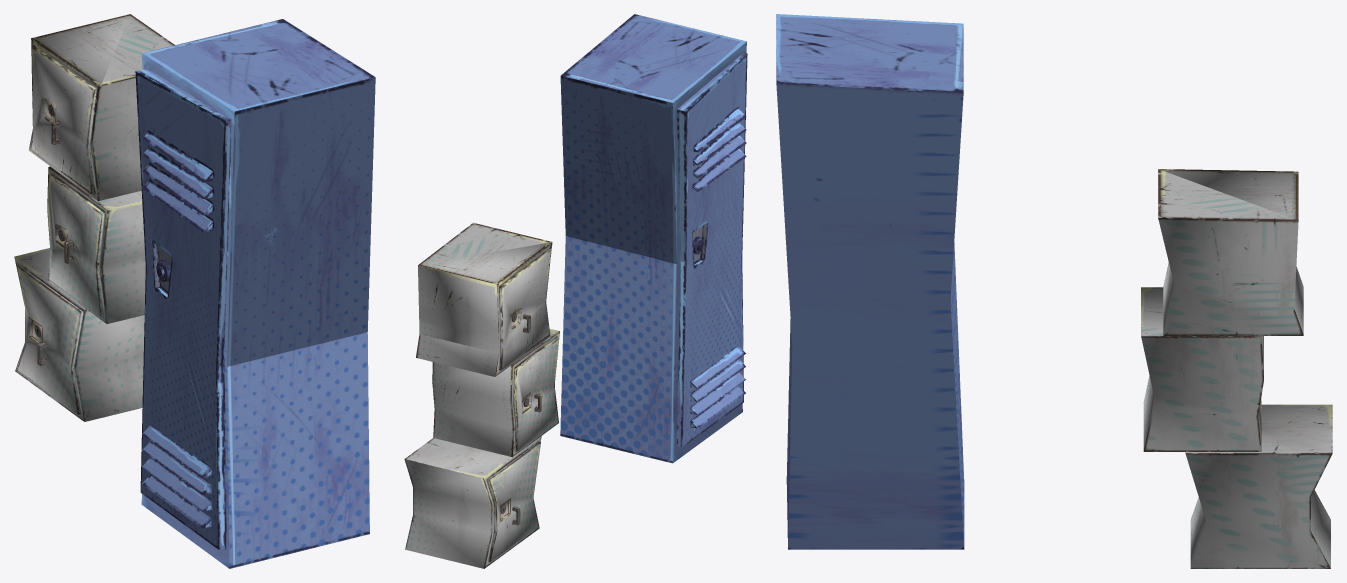
The model's file is LockersA_NoRust.glb.
3 views of the same model, side by side, from view 1: azimuth 30°, elevation 25°; view 2: azimuth 150°, elevation 25°; view 3: azimuth 270°, elevation 25° (orthographic). The views are drawn at different scales.
Parts seen in each view (by area): view 1: Cube.001, small locker top door; view 2: Cube.001, small locker top door; view 3: Cube.001, small locker top door.
Boxes of the visible parts, left/top/right/bottom form: Cube.001: left=135, top=19, right=375, bottom=568; small locker top door: left=14, top=14, right=174, bottom=421; Cube.001: left=560, top=14, right=747, bottom=463; small locker top door: left=404, top=222, right=559, bottom=568; Cube.001: left=776, top=14, right=964, bottom=549; small locker top door: left=1141, top=169, right=1332, bottom=568.
Bounding box in the file's own units: 1.43 × 3.82 × 4.02.
Materials: 2 (2 with a texture image).
